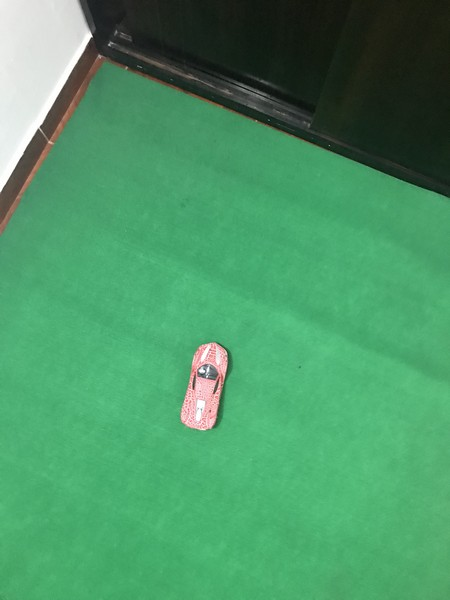RC: (178, 341, 232, 434)
